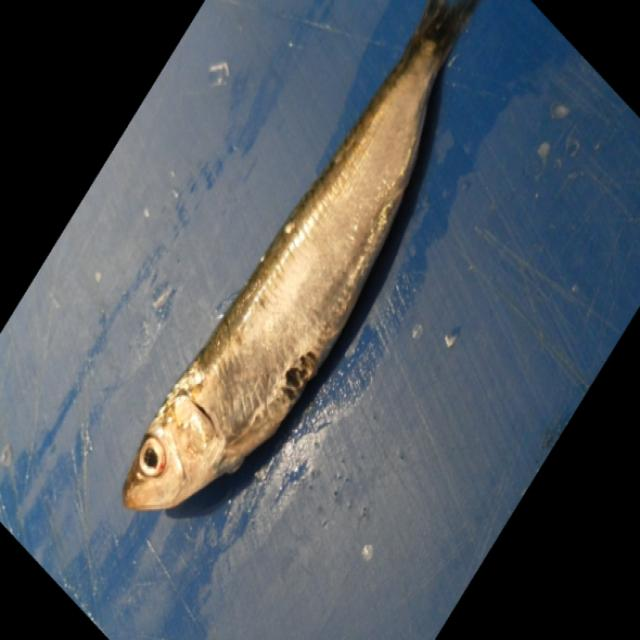Black-Sea-Sprat-tirsi-: (120, 0, 483, 512)
